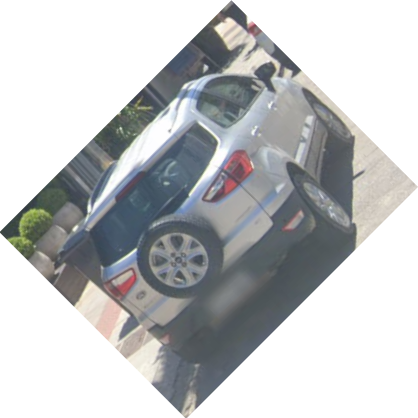car: (82, 71, 355, 349)
